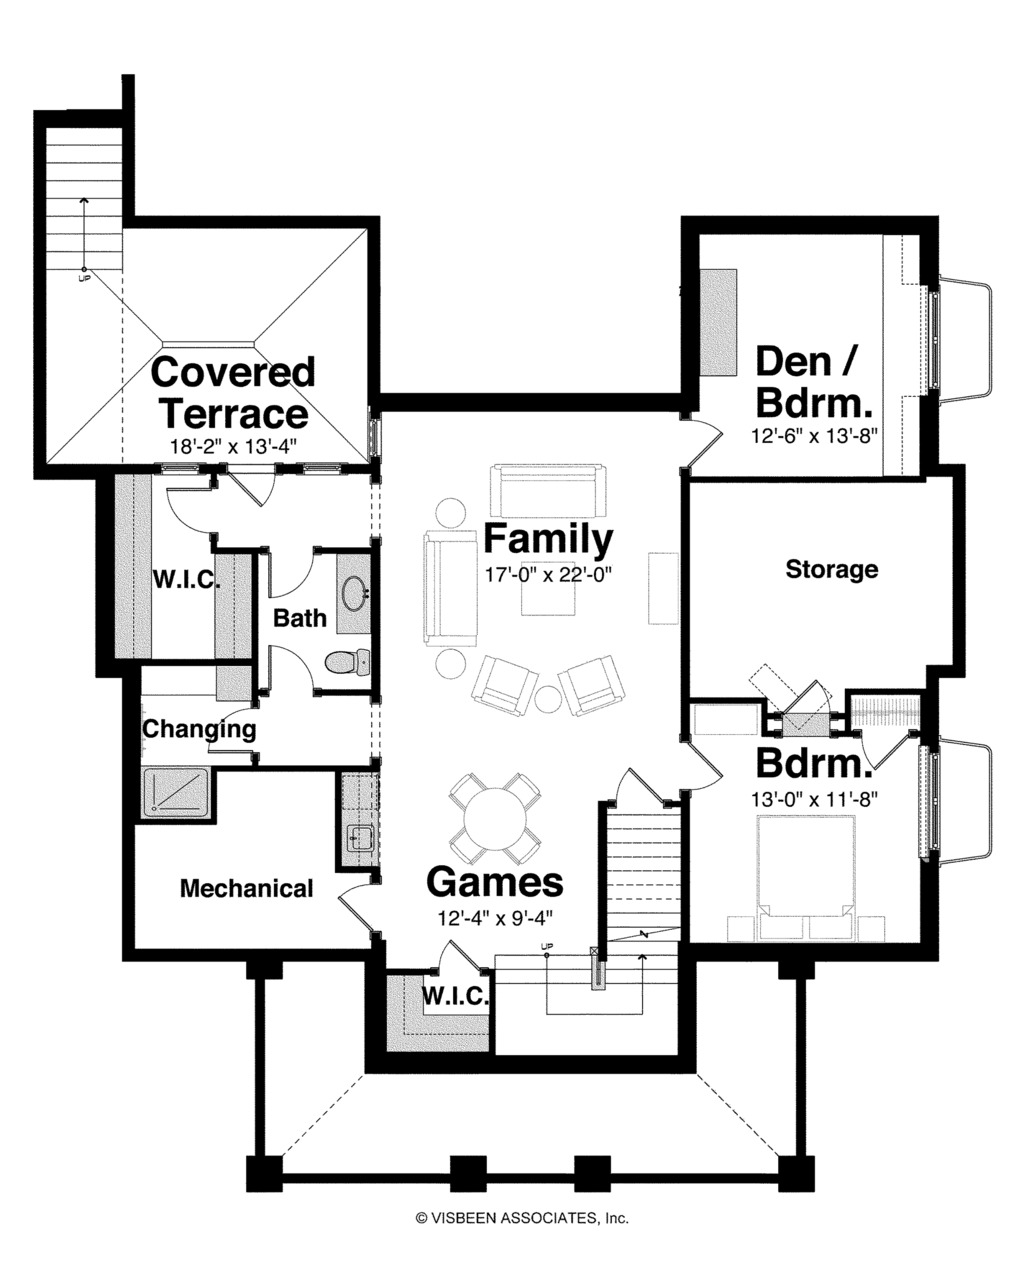bed: (722, 794, 895, 942)
door: (159, 476, 220, 539), (263, 637, 316, 704), (671, 723, 720, 792), (208, 708, 269, 759), (859, 721, 916, 772), (342, 882, 393, 935), (686, 421, 735, 476), (234, 459, 283, 510), (271, 543, 312, 600), (432, 933, 483, 978), (612, 761, 657, 810)
large_sink: (316, 647, 371, 696)
large_sofa: (478, 457, 616, 521), (414, 527, 481, 645)
round_table: (438, 761, 549, 872)
small_sink: (330, 566, 373, 625)
small_sofa: (555, 650, 642, 725), (461, 647, 542, 717)
stairs: (594, 812, 699, 1025), (42, 125, 126, 284)
